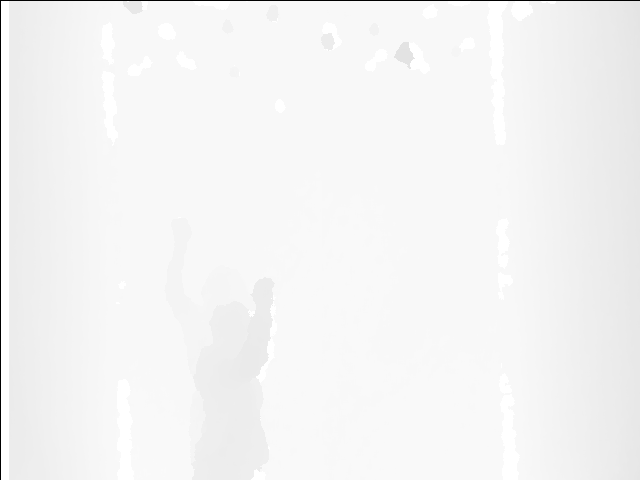hand: (171, 220, 196, 252), (252, 278, 275, 307)
